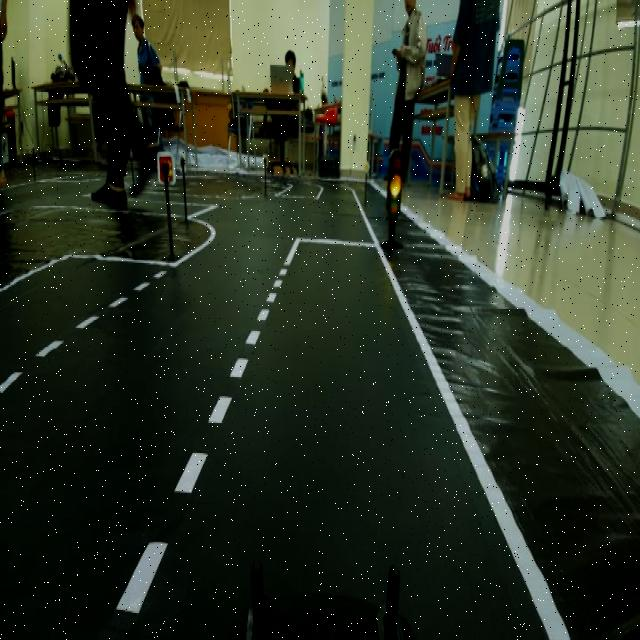trafficlight: (379, 141, 407, 268)
